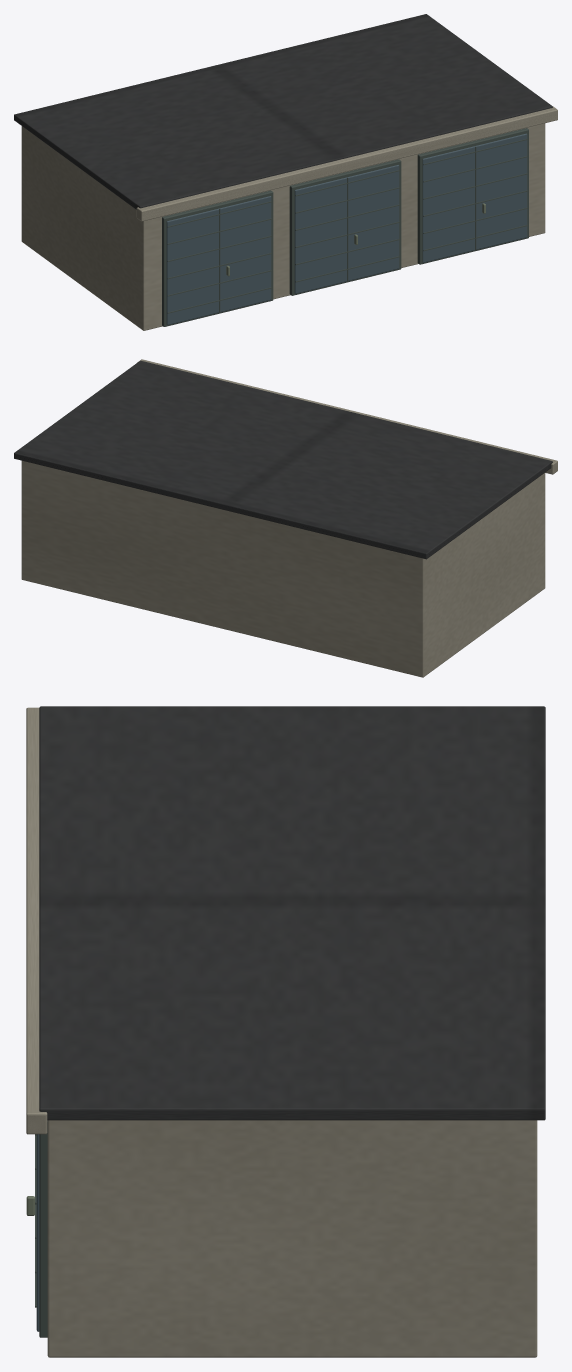
The model's file is service_garage_review.glb.
3 views of the same model, one above another, from view 1: azimuth 30°, elevation 25°; view 2: azimuth 150°, elevation 25°; view 3: azimuth 270°, elevation 25° (orthographic). The views are drawn at different scales.
Parts seen in each view (by area): view 1: service_garage_review; view 2: service_garage_review; view 3: service_garage_review.
Boxes of the visible parts, bbox=[...] form: service_garage_review: bbox=[14, 14, 557, 330]; service_garage_review: bbox=[14, 359, 557, 677]; service_garage_review: bbox=[26, 706, 545, 1357].
Bounding box in the file's own units: 11.4 × 3.33 × 6.15.
5 materials, 2 textured.
